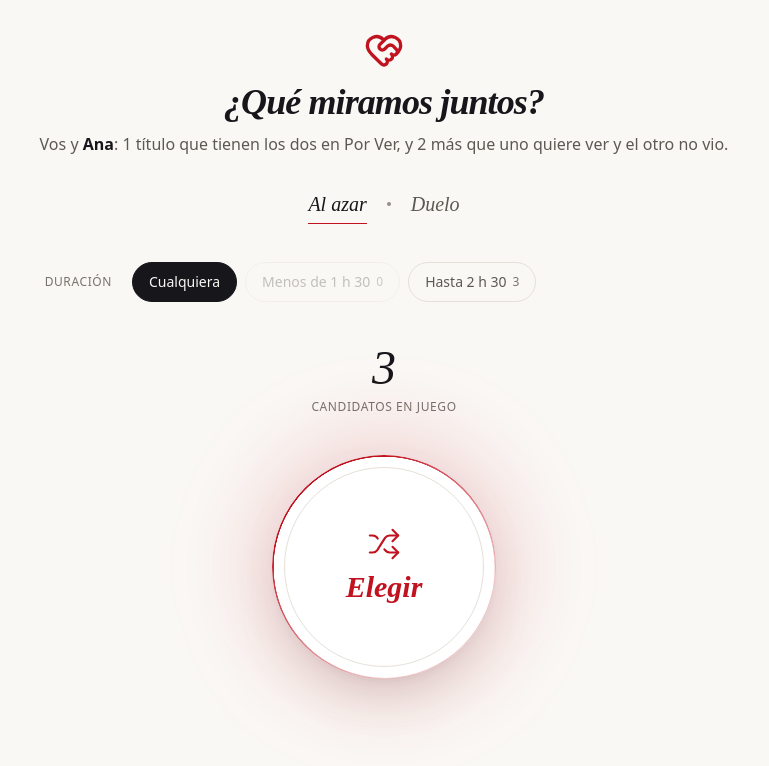
Test: TogetherView › el duelo de a dos no toca tu lista
Click the tab "Duelo": click(435, 204) [399,180,472,228]
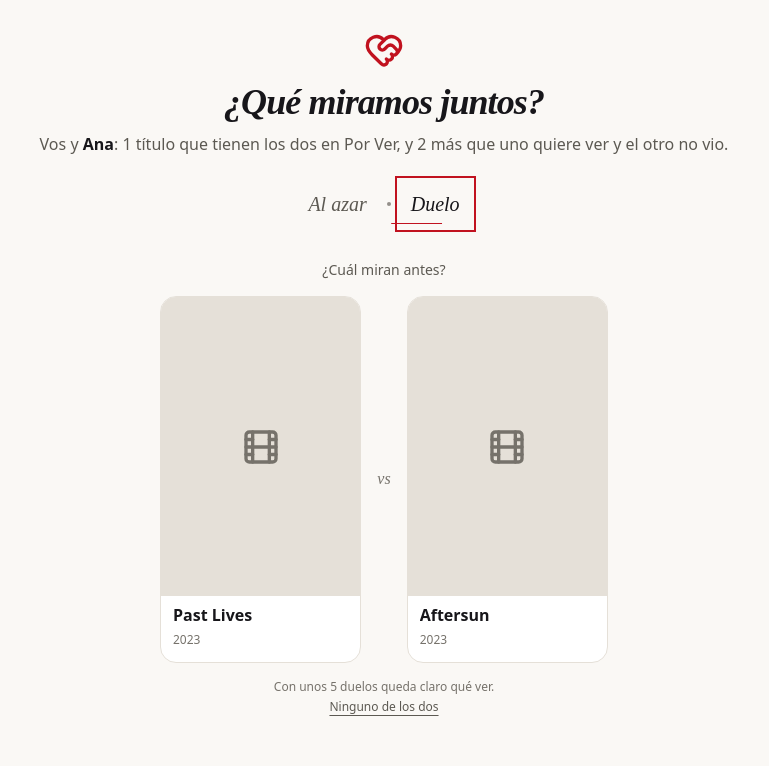
Click the button with aria-label "Elegir ": click(261, 480) [160,296,361,663]
(page scrolled)
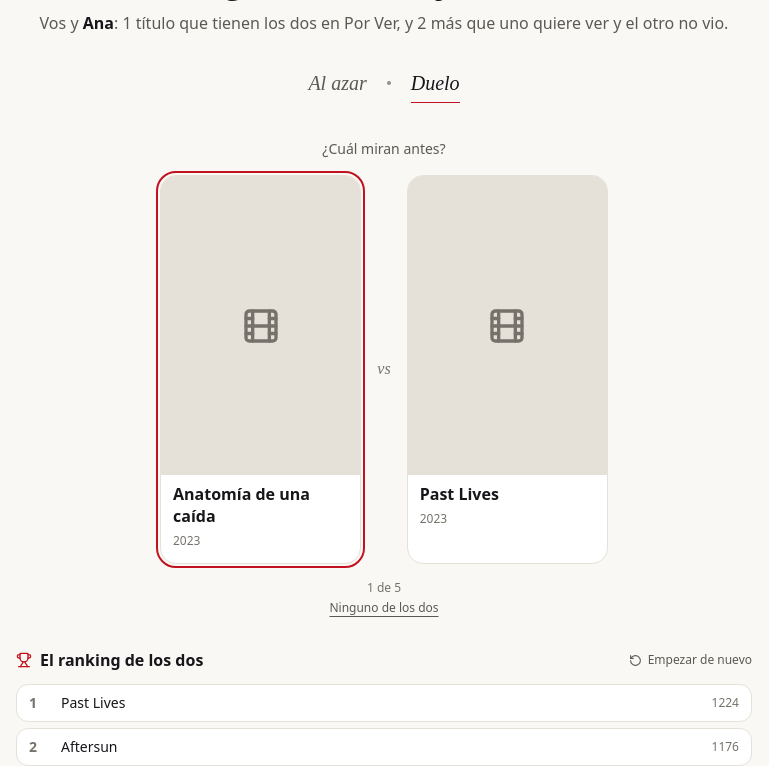
Now the heading "El ranking de los dos" is shown, box [16,648,203,672]
